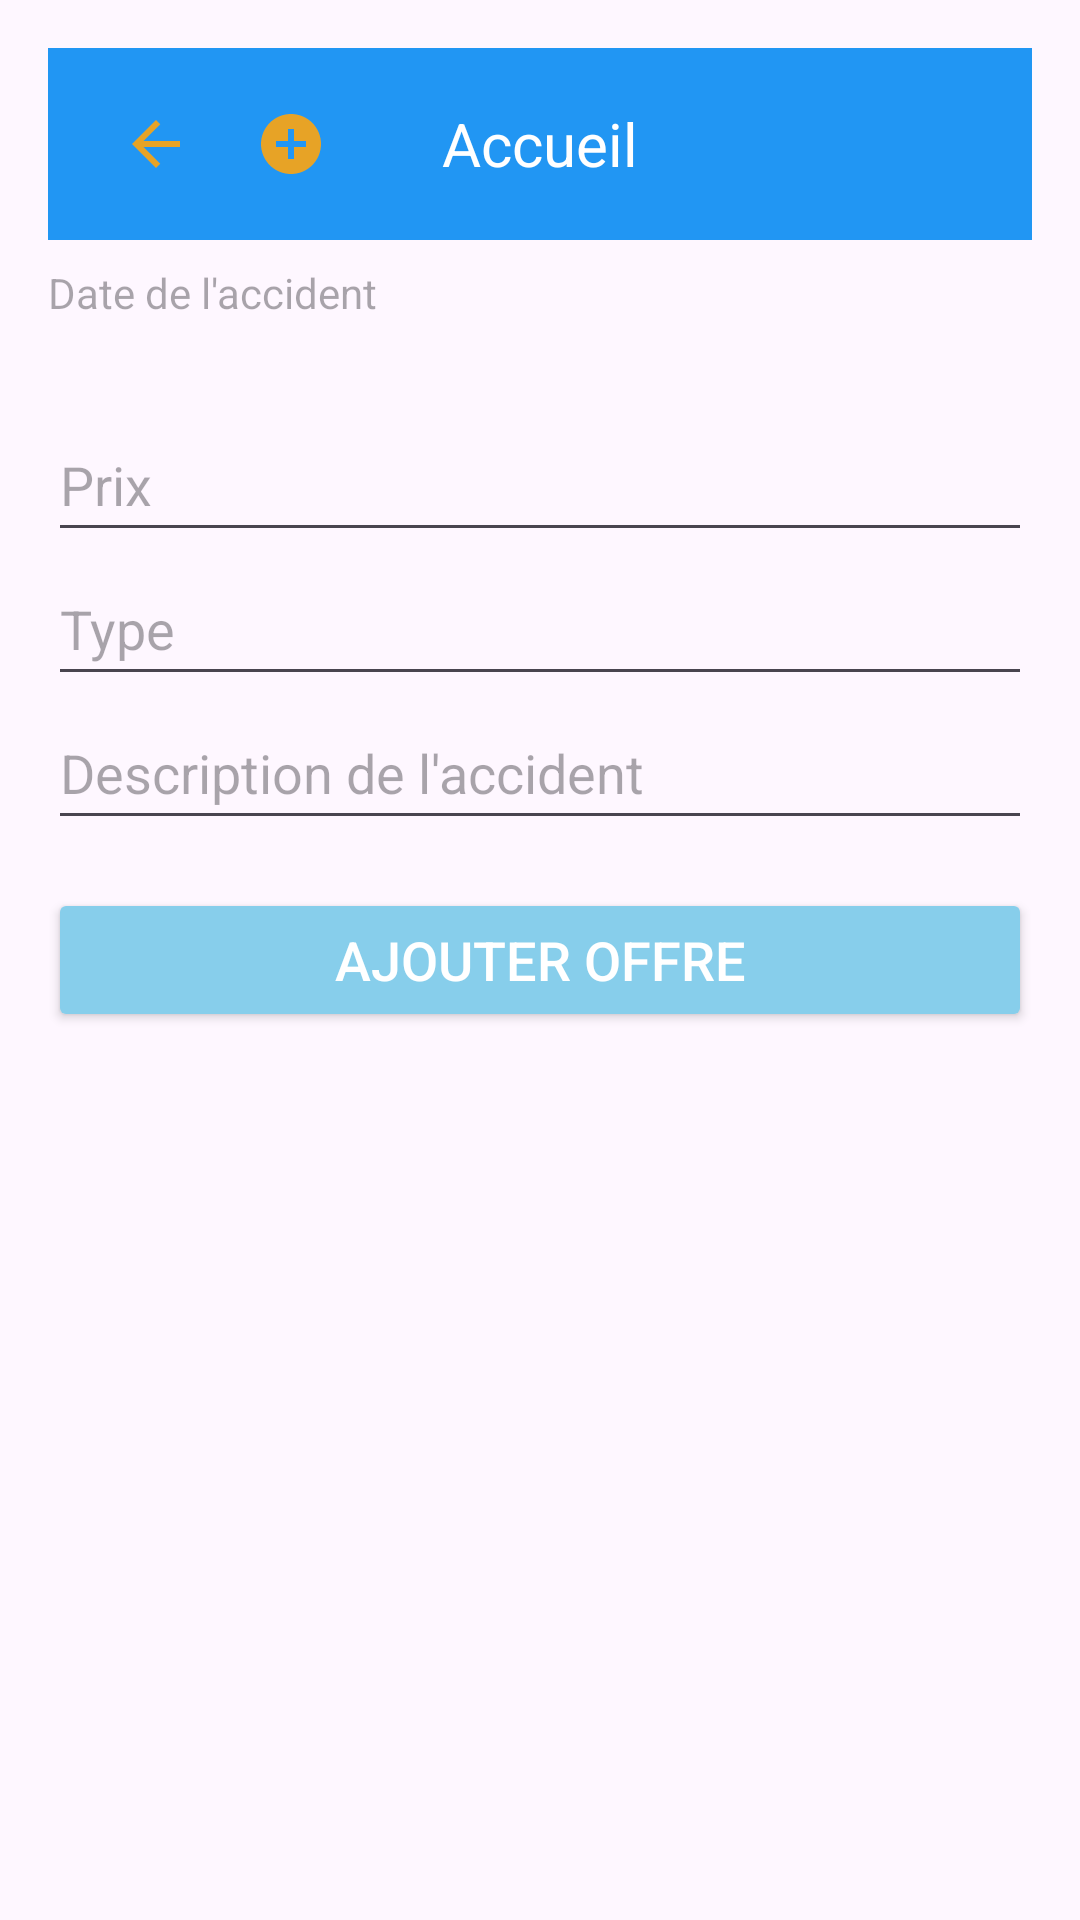

Locate icon controls on the screen. Image size 1080 x 1920, boxes as [x1, y1, x2, y2].
Ajouter: [261, 114, 321, 174]
Retour: [132, 120, 180, 168]
